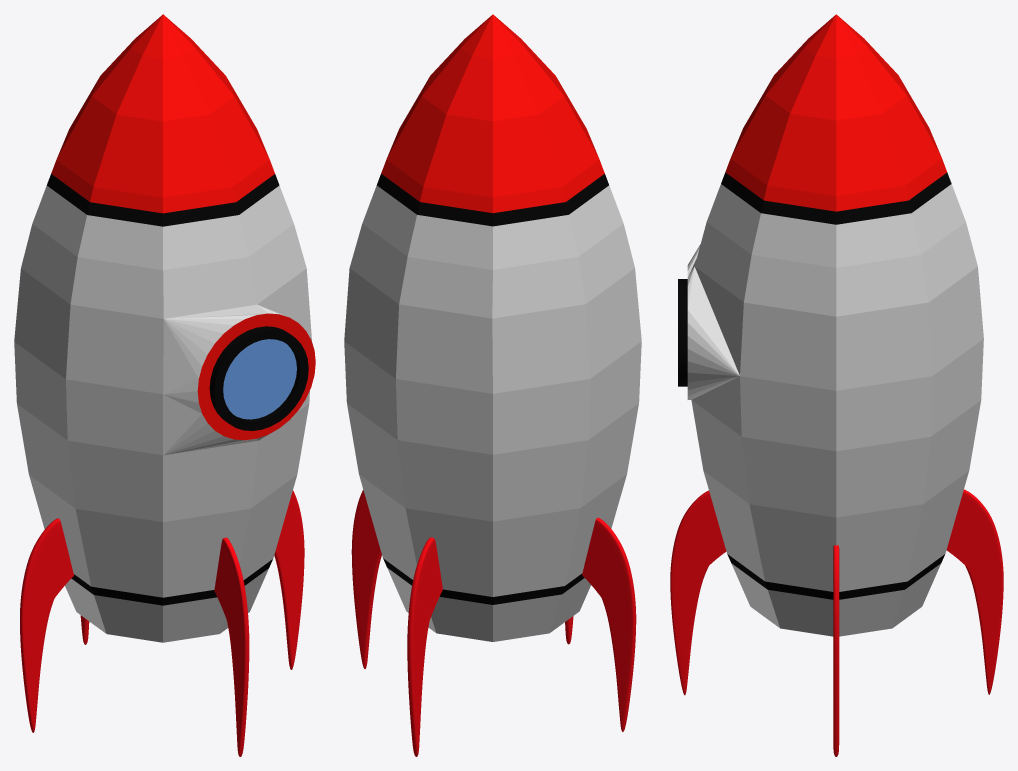
File: raju_rocket.glb
The picture shows the model from 3 angles, left to right: view 1: azimuth 30°, elevation 25°; view 2: azimuth 150°, elevation 25°; view 3: azimuth 270°, elevation 25°; orthographic projection.
Parts seen in each view (by area): view 1: Rocket, Wings; view 2: Rocket, Wings; view 3: Rocket, Wings.
Part boxes in pixels (bbox=[...]): Rocket: bbox=[14, 14, 315, 642]; Wings: bbox=[20, 490, 304, 756]; Rocket: bbox=[344, 14, 641, 641]; Wings: bbox=[351, 490, 636, 756]; Rocket: bbox=[678, 14, 983, 636]; Wings: bbox=[670, 489, 1003, 756].
Size of the model in its own units: 10.35 by 23.97 by 10.64.
